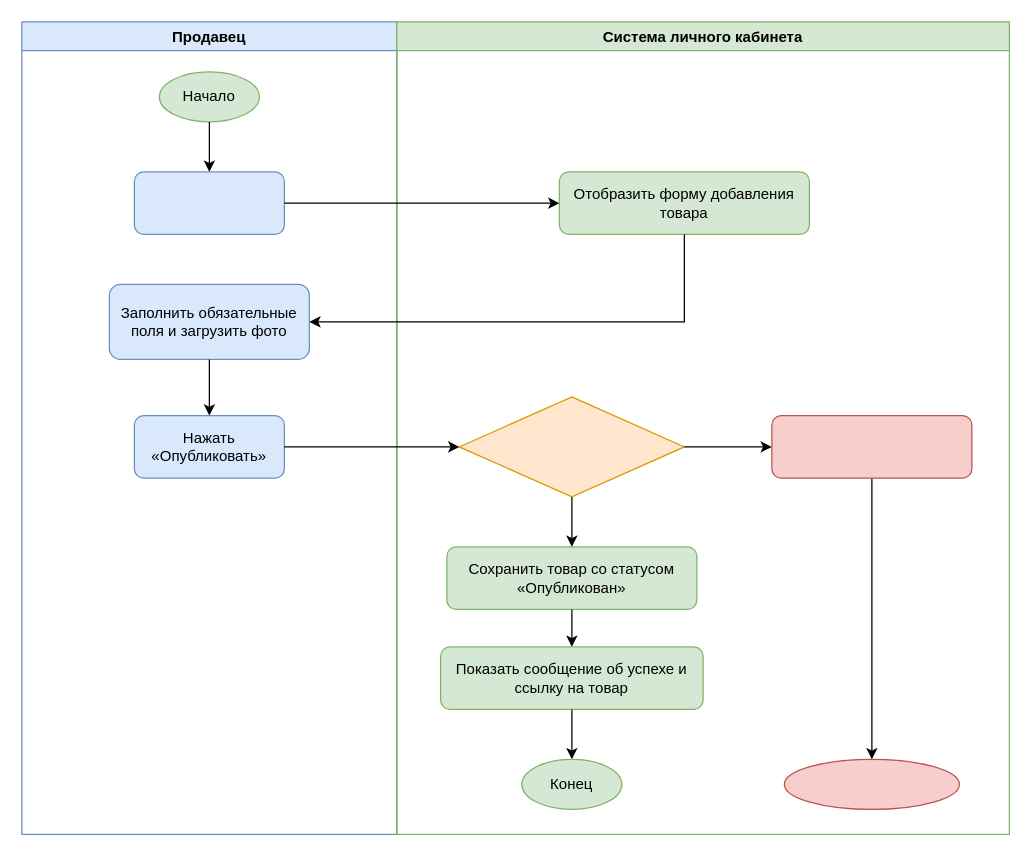
This 1031x856 diagram has some shape labels left out. Here are the shapes that lost their labels. From the top down, the centre of each, then its label:
At pixel 208 202: "Нажать «Добавить товар»".
At pixel 571 446: "Данные корректны?".
At pixel 871 446: "Показать ошибку валидации".
At pixel 871 783: "Конец (исправить ошибки)".
